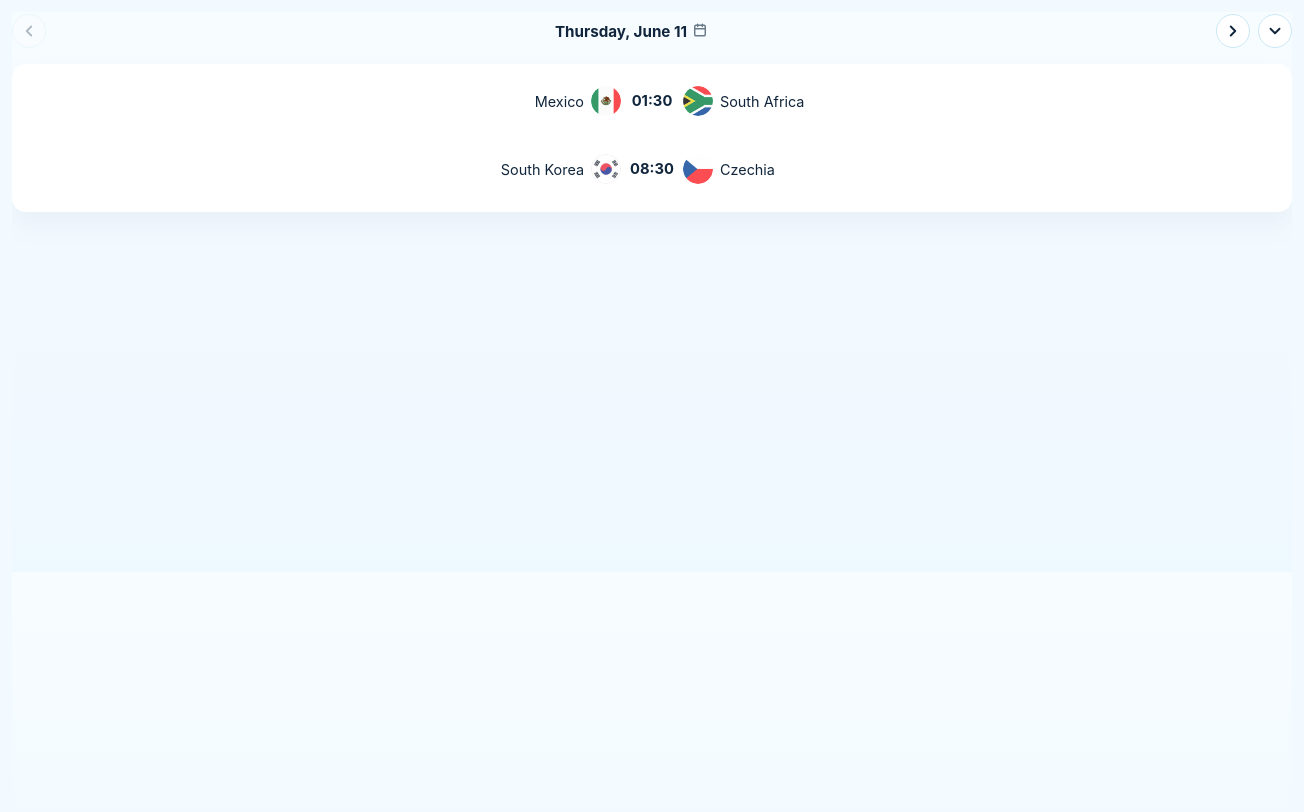
Test: returns from the group picker to the fixture filter menu
Click the button named "Filter options". click: coordinates (1275, 31)
box: left=1258, top=14, right=1292, bottom=48
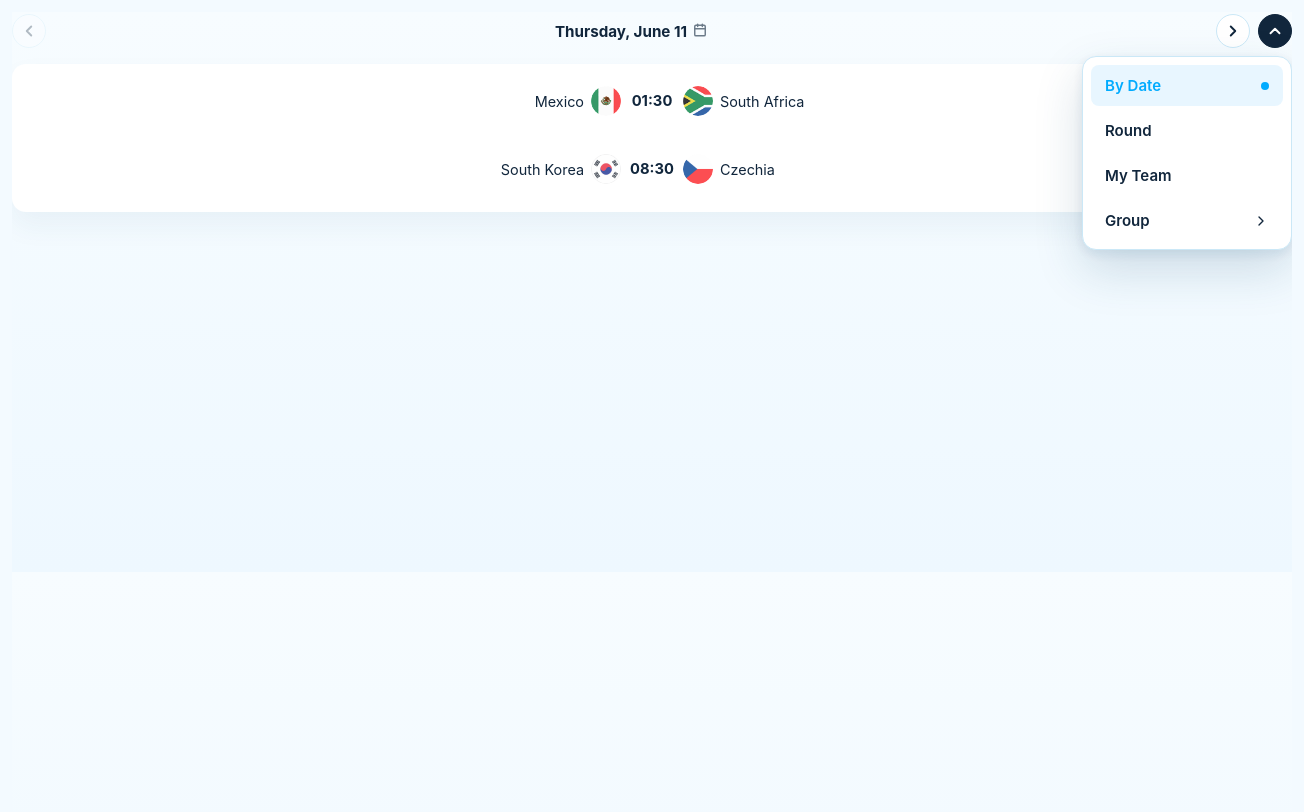
Click the menu item "Group". click: coordinates (1187, 220)
box: left=1091, top=200, right=1283, bottom=241
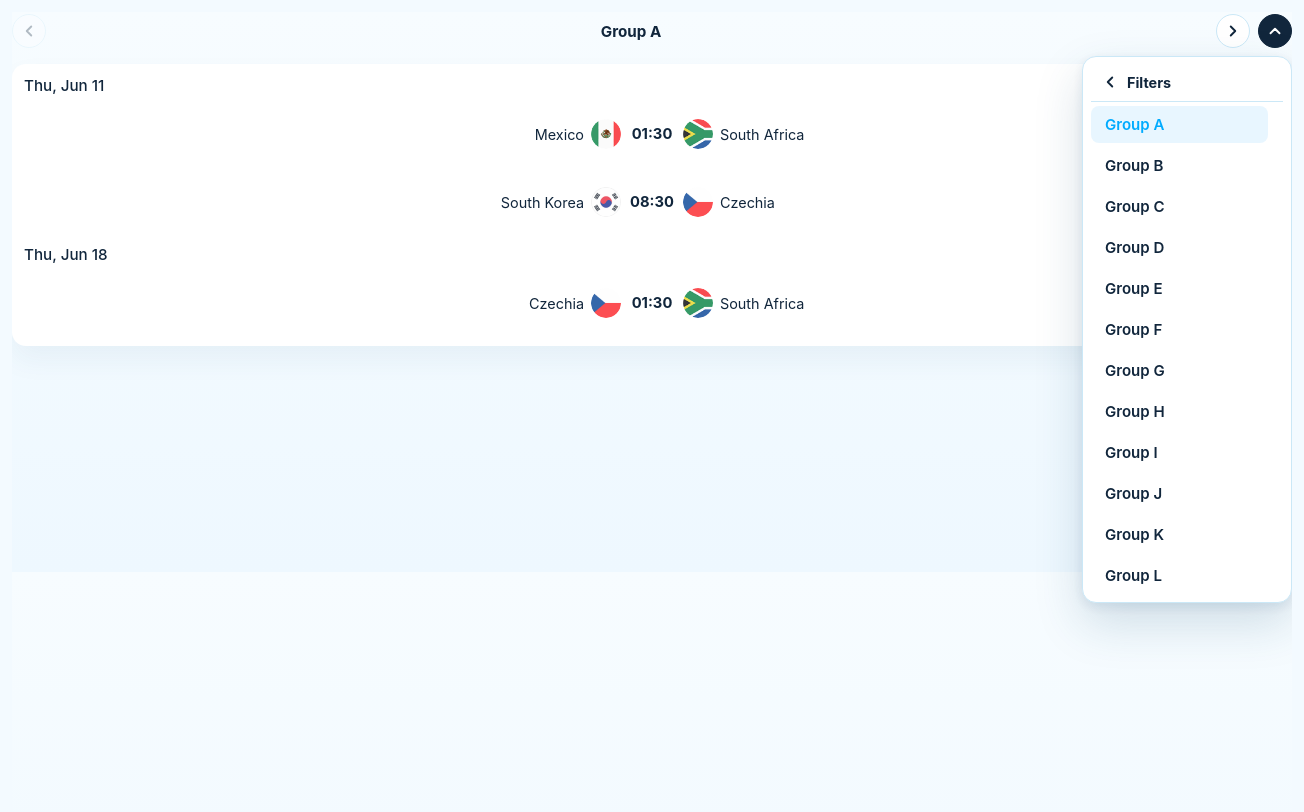
Click the button named "Back to filter options". click: coordinates (1187, 84)
box: left=1091, top=65, right=1283, bottom=102
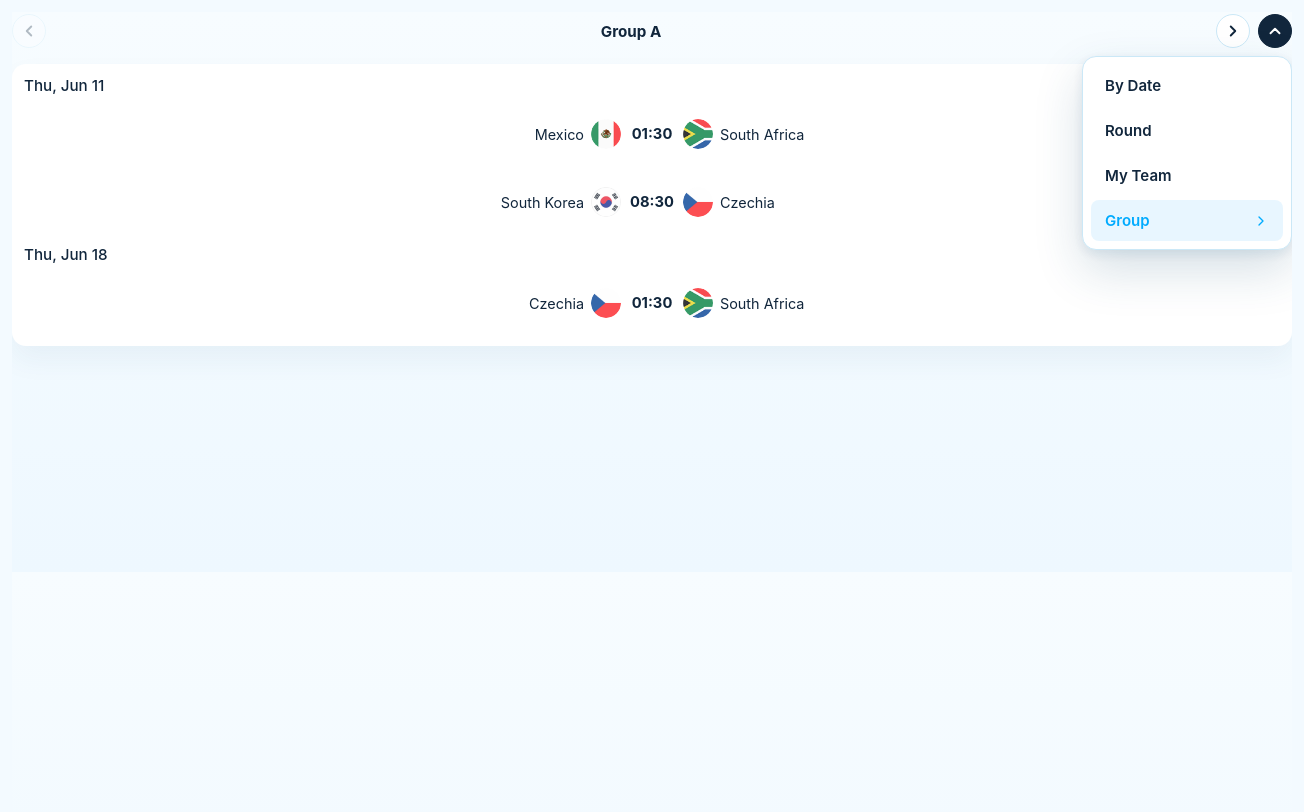
Result: the menu item "By Date" is shown at left=1091, top=65, right=1283, bottom=106
Result: the menu item "Round" is shown at left=1091, top=110, right=1283, bottom=151
Result: the menu item "My Team" is shown at left=1091, top=155, right=1283, bottom=196
